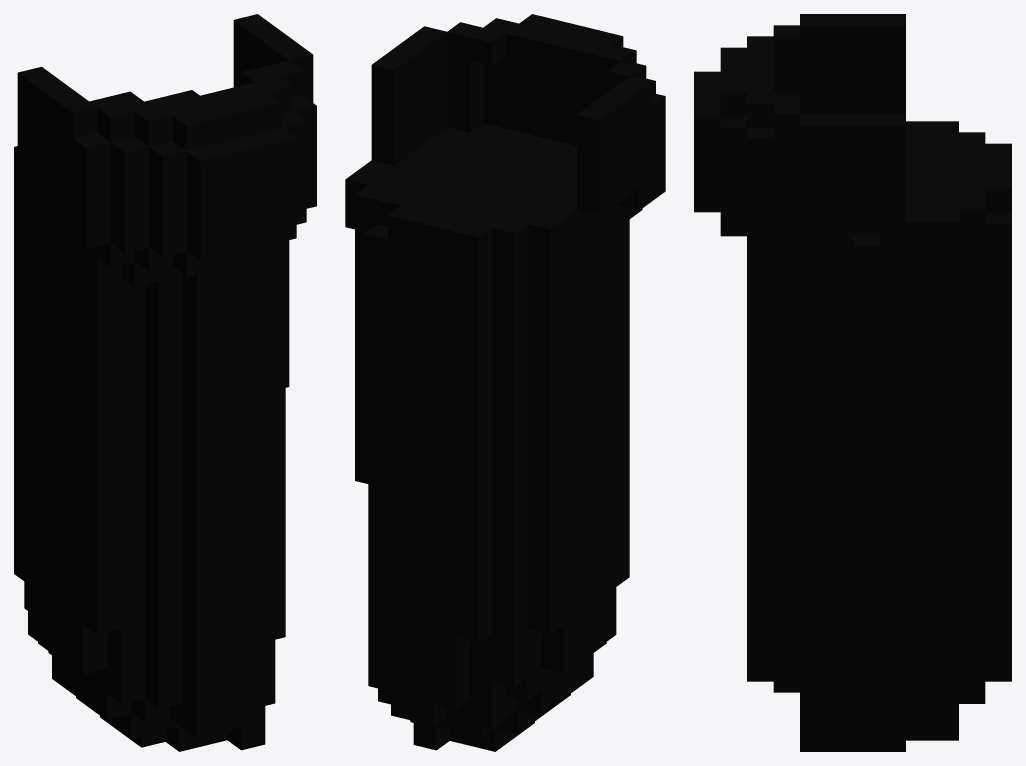
The model's file is UndeadSwordMaster(eftForearm).obj.
3 renders of one model, left to right at view 1: azimuth 30°, elevation 25°; view 2: azimuth 150°, elevation 25°; view 3: azimuth 270°, elevation 25°, orthographic. The views are drawn at different scales.
Size of the model in its own units: 1 by 2.7 by 1.2.
1 material, 1 textured.
